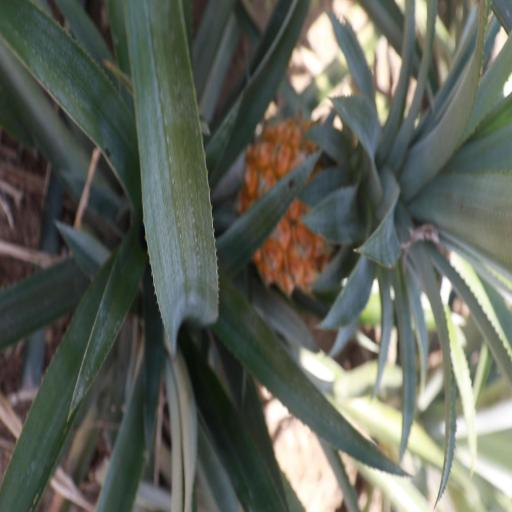Pineapple - v8 v1: (242, 116, 512, 295)
